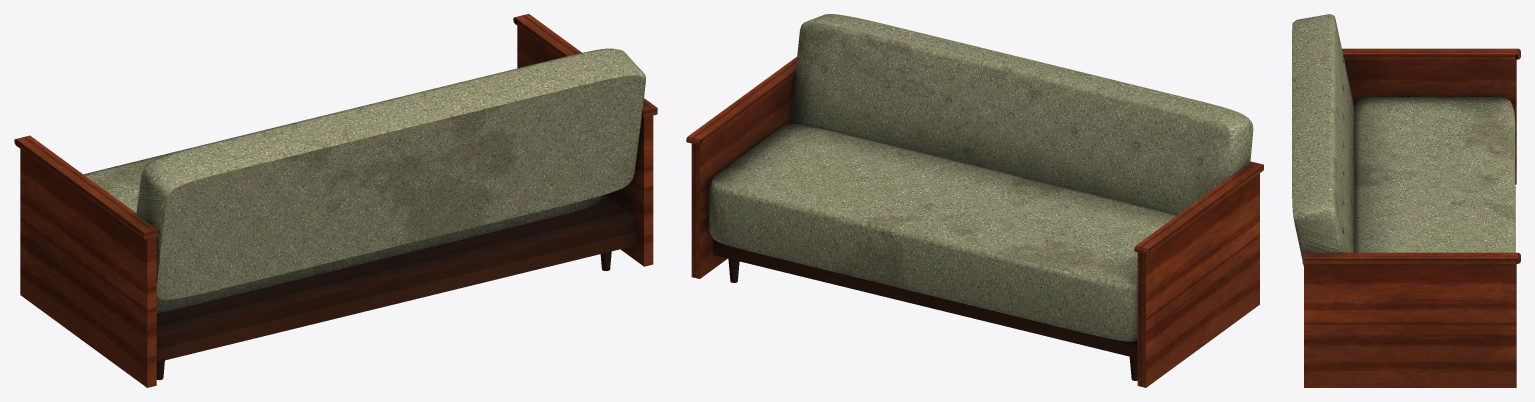
File: sofa_book_floral_web.glb
3 views of the same model, side by side, from view 1: azimuth 30°, elevation 25°; view 2: azimuth 150°, elevation 25°; view 3: azimuth 270°, elevation 25° (orthographic). The views are drawn at different scales.
Parts seen in each view (by area): view 1: SofaBookFloral_Body; view 2: SofaBookFloral_Body; view 3: SofaBookFloral_Body.
Boxes of the visible parts, box(x1,y1,x2,y2) form: SofaBookFloral_Body: box(14, 14, 657, 387); SofaBookFloral_Body: box(686, 14, 1263, 387); SofaBookFloral_Body: box(1292, 14, 1520, 387).
Bounding box in the file's own units: 2.01 × 0.8338 × 0.9251.
Materials: 1 (1 with a texture image).
